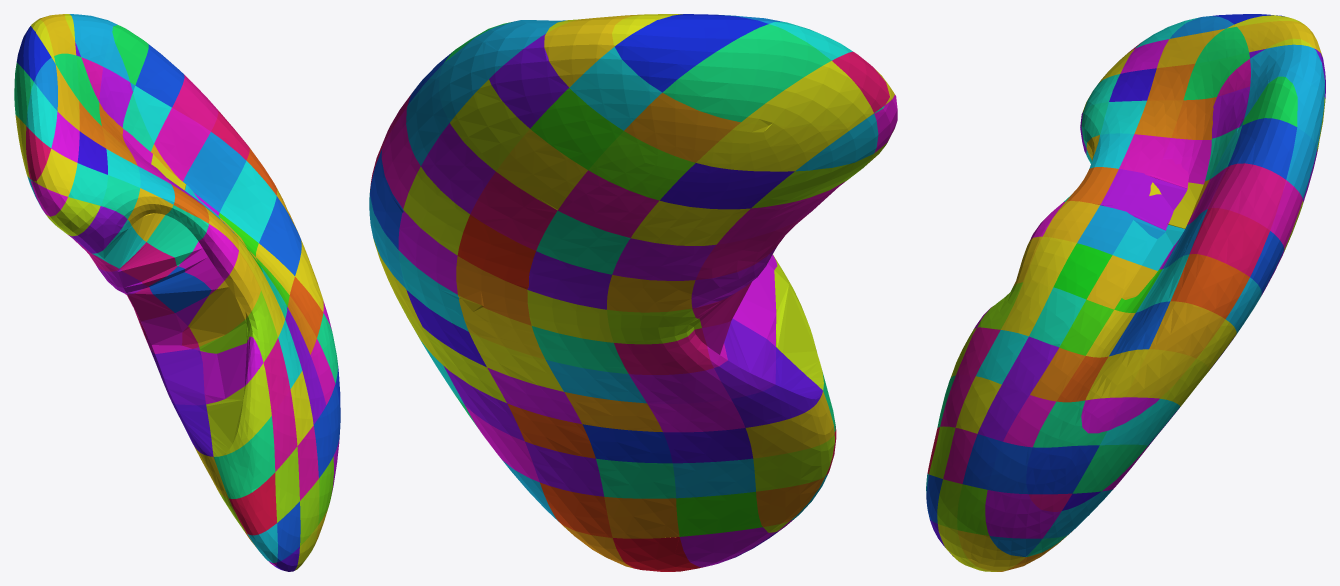
File: kidney-male-left-vu.glb
3 views of the same model, side by side, from view 1: azimuth 30°, elevation 25°; view 2: azimuth 150°, elevation 25°; view 3: azimuth 270°, elevation 25° (orthographic). The views are drawn at different scales.
Parts seen in each view (by area): view 1: A-5-II, B-7-II, A-4-II, G-8-II, A-6-II, G-7-II, A-6-I, G-9-II, B-8-II, B-9-II, B-6-II, G-6-II (+65 smaller); view 2: C-14-I, D-14-I, B-13-I, B-14-I, C-13-I, B-12-I, C-12-I, D-12-I, E-12-I, D-13-I, D-11-I, E-11-I (+65 smaller); view 3: G-8-I, G-9-I, G-7-I, D-9-II, F-3-II, G-10-I, G-6-I, E-2-II, F-12-I, D-10-II, E-7-II, G-5-I (+70 smaller).
Part boxes in pixels (box(x1,y1,x2,y2)): A-5-II: box(206, 363, 271, 456); B-7-II: box(188, 251, 260, 346); A-4-II: box(214, 416, 275, 498); G-8-II: box(183, 132, 246, 212); A-6-II: box(200, 336, 263, 404); G-7-II: box(219, 161, 276, 242); A-6-I: box(150, 349, 205, 405); G-9-II: box(154, 108, 210, 181); B-8-II: box(178, 224, 238, 294); B-9-II: box(147, 205, 208, 265); B-6-II: box(199, 290, 277, 362); G-6-II: box(259, 196, 301, 275); C-14-I: box(662, 24, 831, 122); D-14-I: box(614, 14, 768, 92); B-13-I: box(696, 115, 870, 171); B-14-I: box(741, 61, 873, 126); C-13-I: box(624, 93, 740, 162); B-12-I: box(660, 163, 794, 209); C-12-I: box(588, 131, 695, 200); D-12-I: box(530, 88, 623, 169); E-12-I: box(489, 34, 569, 128); D-13-I: box(569, 47, 662, 130); D-11-I: box(496, 129, 587, 210); E-11-I: box(450, 79, 529, 171); G-8-I: box(1189, 208, 1269, 276); G-9-I: box(1208, 163, 1285, 230); G-7-I: box(1171, 254, 1249, 318); D-9-II: box(1100, 169, 1187, 230); F-3-II: box(1026, 445, 1099, 494); G-10-I: box(1227, 118, 1297, 179); G-6-I: box(1149, 301, 1225, 358); E-2-II: box(985, 490, 1061, 538); F-12-I: box(1250, 44, 1324, 95); D-10-II: box(1119, 134, 1189, 188); E-7-II: box(1086, 255, 1157, 309); G-5-I: box(1125, 349, 1195, 398).
Bounding box in the file's own units: 0.0544 × 0.0858 × 0.0631.
